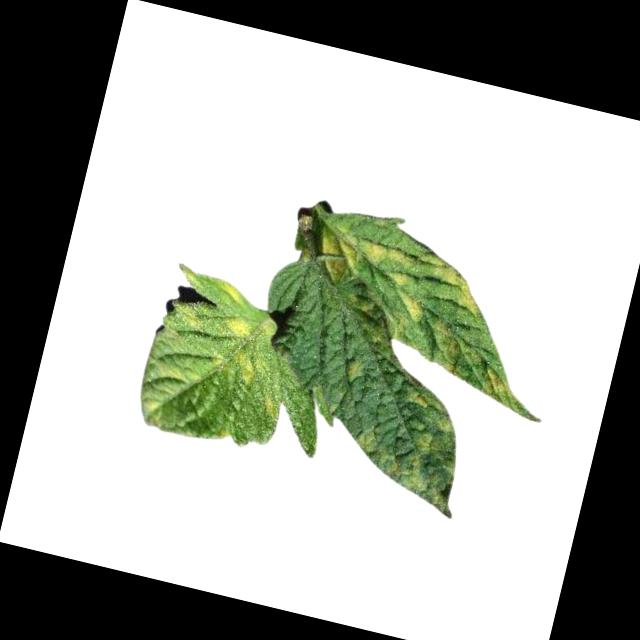Leaf_Mold: (336, 369, 474, 516), (311, 224, 410, 291), (204, 311, 278, 394), (426, 259, 490, 319), (424, 318, 467, 374), (476, 362, 516, 402), (166, 297, 205, 334), (391, 291, 426, 326), (253, 392, 283, 424), (335, 355, 365, 384)
